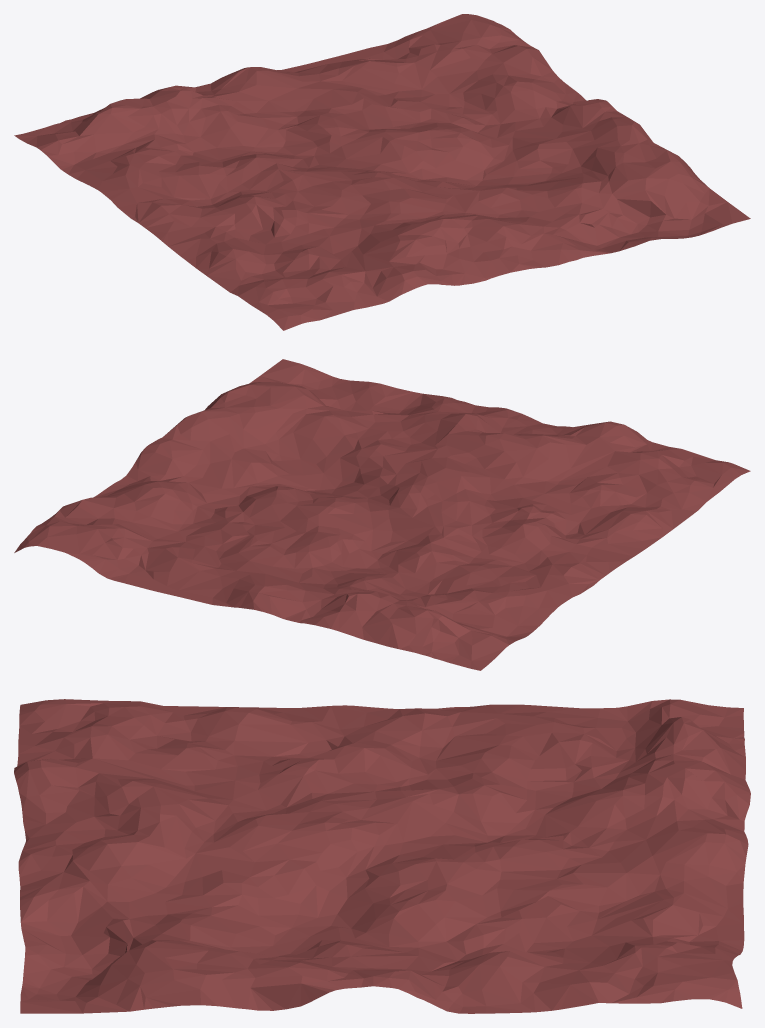
The model's file is Terreno.fbx.
3 renders of one model, top to bottom at view 1: azimuth 30°, elevation 25°; view 2: azimuth 150°, elevation 25°; view 3: azimuth 270°, elevation 25°, orthographic. The views are drawn at different scales.
Visible parts, largest first — view 1: terreno; view 2: terreno; view 3: terreno.
Boxes of the visible parts, x1,y1,x2,y2 form: terreno: [14, 14, 750, 330]; terreno: [14, 359, 750, 670]; terreno: [14, 699, 750, 1013].
Bounding box in the file's own units: 0.3399 × 0.026 × 0.3426.
